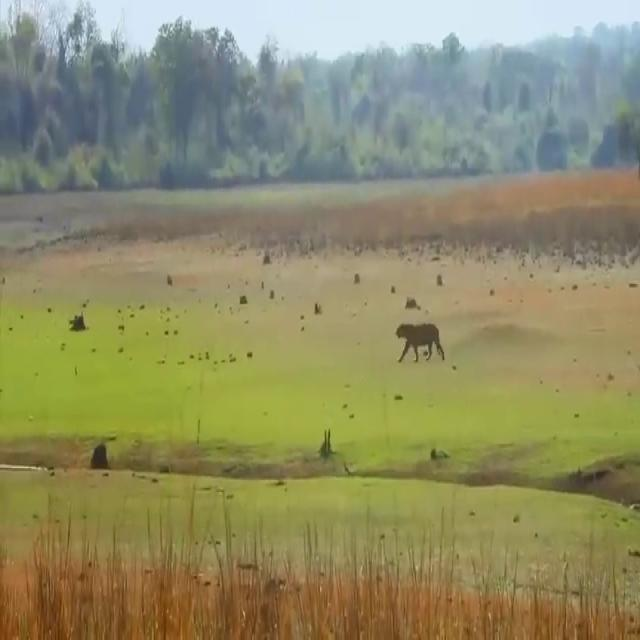tiger: (396, 322, 445, 363)
